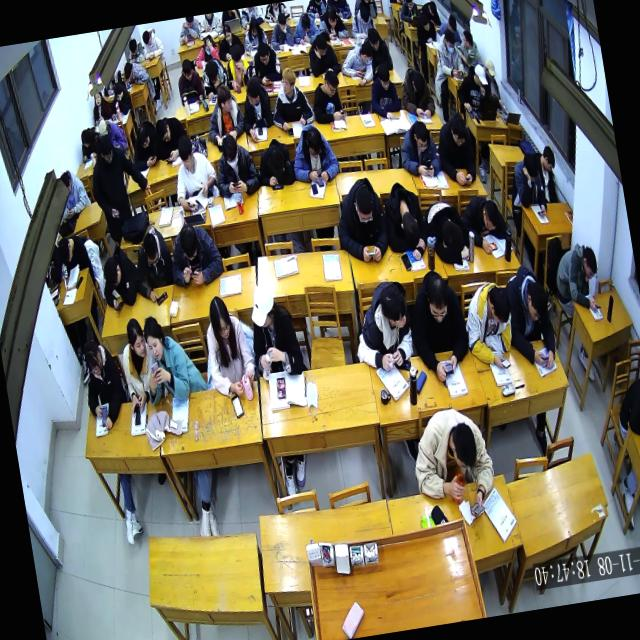bow: (498, 260, 560, 374), (378, 178, 432, 266), (125, 224, 180, 306), (420, 197, 472, 270), (459, 190, 512, 258), (95, 241, 144, 314), (252, 134, 298, 190), (397, 65, 438, 122), (337, 39, 378, 91), (152, 112, 192, 165), (127, 118, 163, 174), (305, 30, 341, 81), (198, 54, 232, 102), (315, 1, 349, 44), (288, 8, 322, 46), (192, 32, 222, 69), (120, 58, 151, 90), (175, 16, 202, 45), (125, 35, 146, 65), (421, 0, 442, 28)
down: (446, 420, 481, 474), (422, 270, 452, 325), (522, 280, 552, 324), (142, 314, 168, 364), (208, 295, 234, 342), (486, 283, 514, 326), (177, 220, 202, 264), (352, 182, 376, 225), (82, 340, 106, 380), (219, 132, 242, 172), (264, 142, 288, 180), (448, 110, 470, 150), (175, 135, 198, 173), (479, 197, 502, 234), (304, 123, 326, 161), (140, 230, 162, 268), (101, 256, 123, 290), (580, 245, 600, 282), (96, 132, 116, 166), (412, 121, 431, 155), (56, 234, 76, 266), (322, 69, 342, 100), (522, 151, 540, 185), (376, 62, 394, 94), (540, 143, 558, 175), (410, 67, 428, 97), (134, 122, 152, 152), (228, 40, 245, 70), (154, 116, 172, 144), (359, 39, 376, 68), (442, 26, 458, 56), (323, 2, 339, 31), (204, 59, 221, 86), (472, 62, 488, 90), (256, 41, 272, 68), (313, 32, 329, 59), (366, 26, 382, 53), (59, 170, 73, 198), (180, 57, 195, 82), (484, 58, 498, 84), (80, 128, 94, 150), (122, 59, 135, 82), (248, 15, 261, 38), (276, 10, 288, 33), (112, 81, 125, 102), (127, 37, 140, 58), (419, 13, 432, 34), (222, 22, 234, 44), (300, 12, 312, 34), (202, 36, 215, 56), (146, 153, 159, 169), (142, 28, 152, 46), (404, 0, 416, 12)
lookup: (94, 90, 105, 108)
sit: (406, 402, 502, 527), (402, 264, 476, 386), (85, 128, 157, 242), (346, 274, 418, 375), (136, 308, 208, 407), (199, 291, 261, 405), (243, 276, 307, 384), (458, 276, 520, 374), (330, 174, 393, 266), (78, 334, 130, 431), (114, 314, 162, 418), (168, 130, 222, 216), (164, 217, 225, 292), (549, 240, 605, 320), (432, 108, 480, 190), (286, 120, 342, 189), (210, 130, 262, 202), (265, 65, 317, 134), (202, 79, 248, 148), (396, 117, 444, 182), (508, 149, 550, 223), (235, 73, 277, 144), (366, 61, 402, 126), (308, 67, 348, 125), (452, 62, 492, 116), (220, 40, 256, 96), (57, 166, 93, 219), (433, 26, 466, 81), (613, 376, 640, 442), (534, 143, 562, 206), (248, 39, 284, 88), (482, 56, 510, 118), (173, 56, 206, 108), (55, 232, 92, 278), (360, 23, 394, 72), (214, 19, 246, 62), (266, 8, 296, 52), (347, 2, 378, 42), (456, 26, 484, 70), (104, 80, 134, 120), (240, 15, 270, 52), (77, 124, 105, 163), (140, 25, 167, 62), (88, 88, 113, 126), (414, 12, 438, 49), (396, 0, 420, 25)
